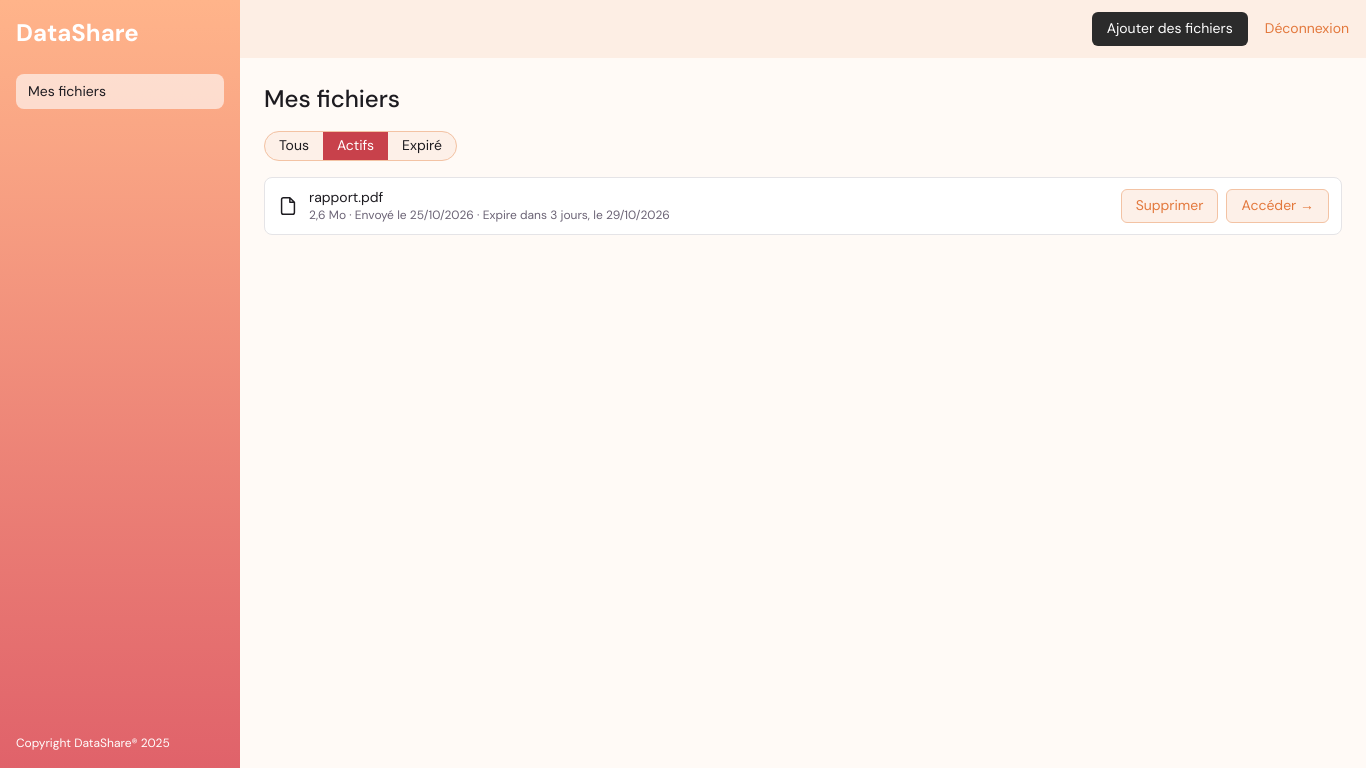
MyFilesPage — history (US05) and deletion (US06) › reloads the history with the chosen filter; an expired file has no action
Check: the text "rapport.pdf" is shown, box [309, 188, 383, 206]
Click the button "Tous".
click(294, 146)  # box [265, 132, 323, 160]
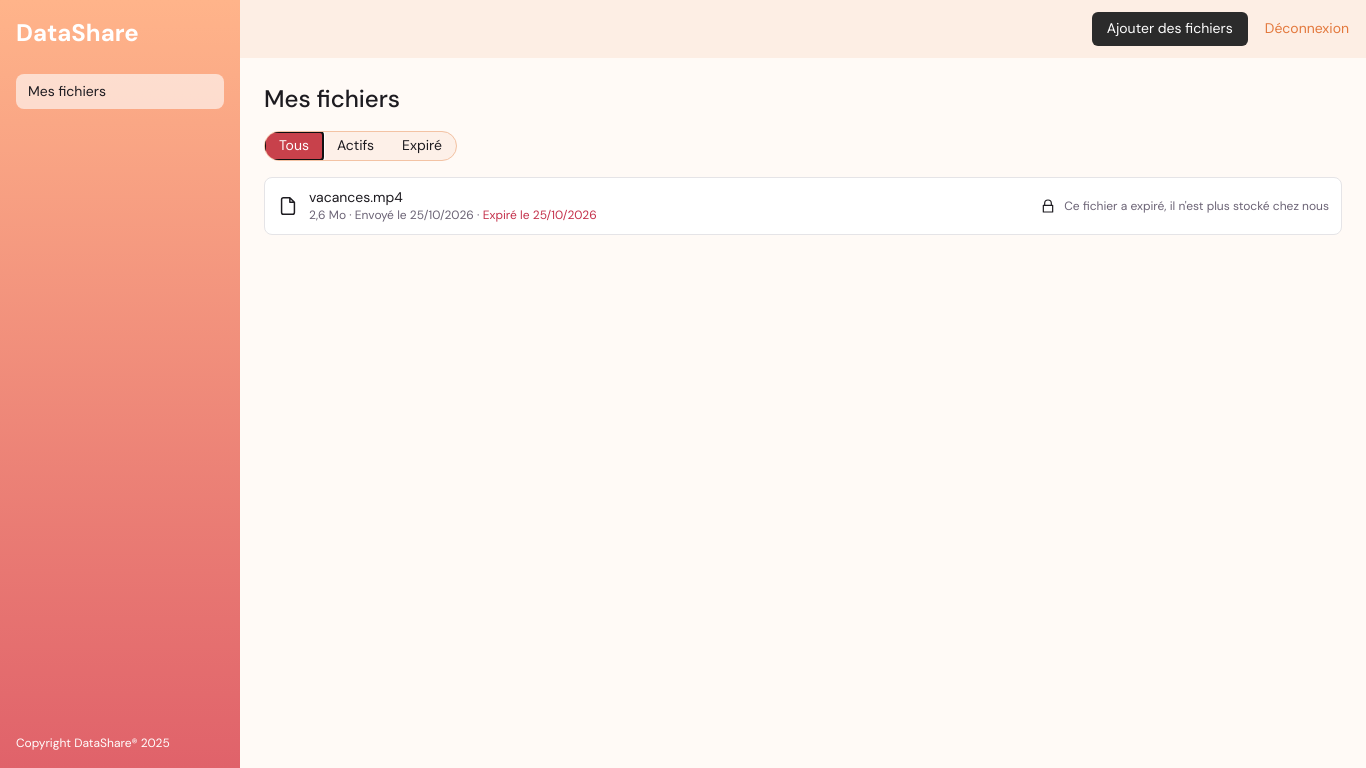
Check: the text "vacances.mp4" is shown, box [309, 188, 403, 206]
Check: the text "Expiré le 25/10/2026" is shown, box [483, 207, 597, 223]
Check: the text "Ce fichier a expiré, il n'est plus stocké chez nous" is shown, box [1064, 198, 1329, 214]
